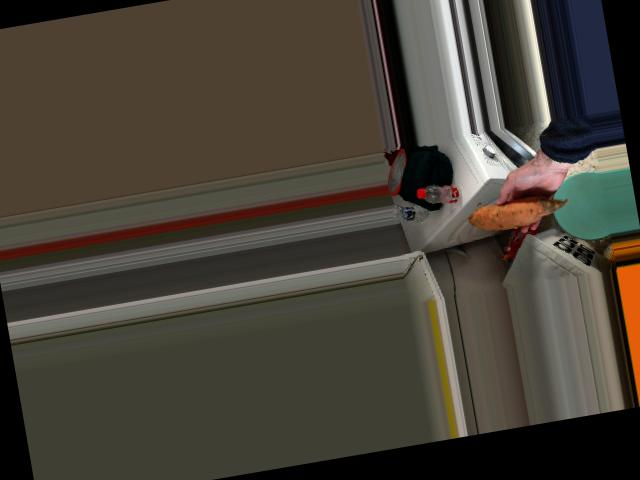sweet_potato: (477, 187, 550, 229)
